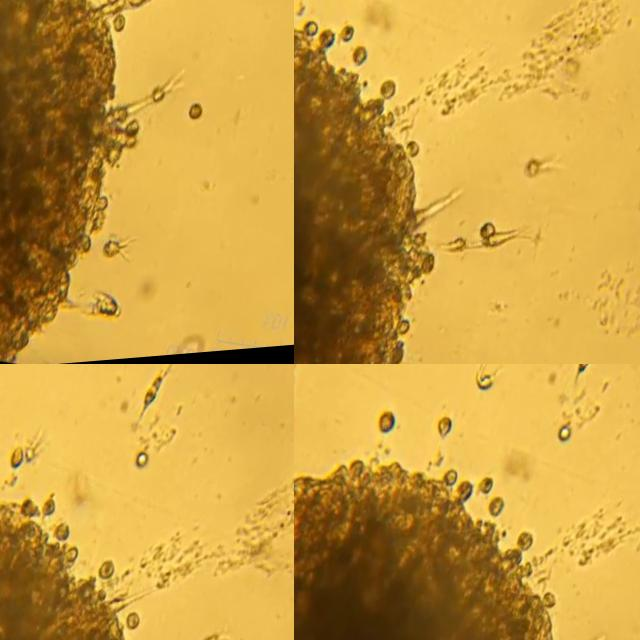cell: (141, 376, 165, 421), (102, 240, 134, 268), (88, 296, 119, 322), (480, 239, 518, 254), (375, 411, 396, 436), (486, 500, 507, 521), (473, 374, 492, 393), (97, 565, 115, 584), (185, 109, 203, 127), (442, 244, 465, 258), (8, 448, 22, 471), (40, 500, 55, 521), (477, 480, 494, 498), (349, 50, 365, 69), (436, 420, 452, 437), (526, 165, 541, 183), (124, 616, 138, 635), (379, 86, 395, 102), (134, 456, 150, 472), (52, 528, 68, 544), (479, 228, 494, 245), (339, 31, 354, 46), (557, 429, 571, 445), (113, 19, 125, 35), (575, 364, 590, 376)
tumor_mass: (294, 23, 460, 364), (294, 458, 557, 640)
